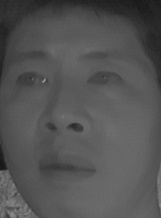eye: (86, 64, 125, 94), (12, 68, 53, 95)
mouth: (35, 147, 99, 187)
